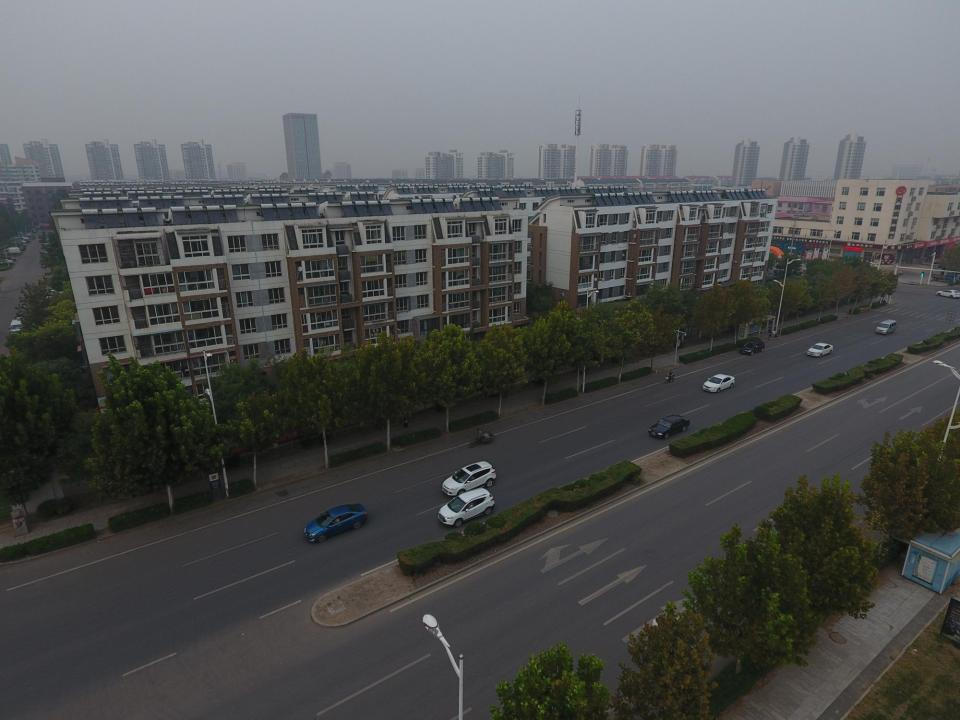car: (304, 503, 368, 543), (438, 488, 496, 527), (442, 460, 496, 497), (648, 414, 691, 439), (702, 374, 735, 392), (739, 340, 766, 356), (807, 342, 833, 358), (936, 290, 960, 298), (43, 273, 67, 280), (7, 246, 24, 252), (0, 256, 16, 262), (0, 258, 13, 265), (762, 276, 772, 284), (11, 240, 26, 244), (45, 241, 56, 245)
truck: (930, 272, 956, 283), (3, 247, 21, 255)
van: (9, 317, 26, 340), (876, 319, 897, 335), (38, 237, 43, 242)
